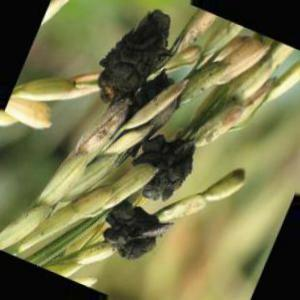Leaf_Scald: (102, 10, 170, 116), (140, 137, 186, 202), (101, 200, 152, 257)
